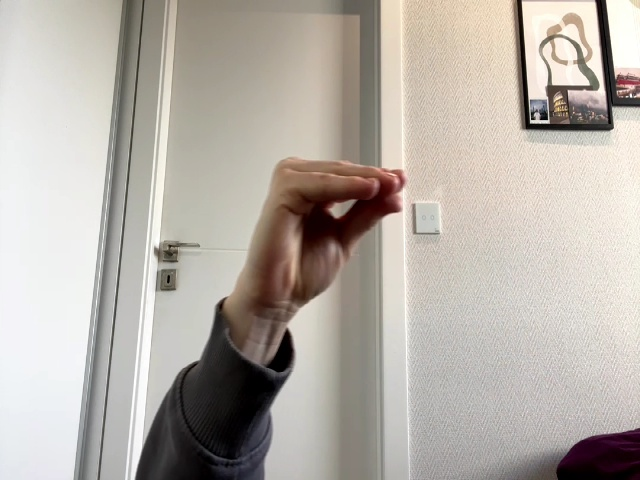E: (235, 158, 405, 323)
